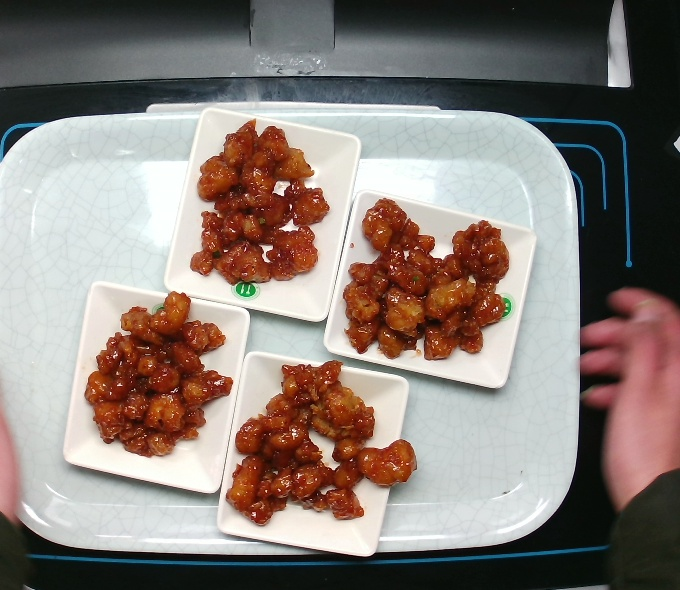wcq-TangCuPaiGu: (333, 193, 525, 370), (223, 360, 423, 529), (176, 111, 335, 297), (81, 284, 241, 465)
